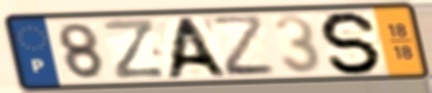3: (273, 11, 322, 78)
8: (53, 21, 108, 81)
A: (162, 15, 232, 80)
S: (318, 10, 385, 76)
Z: (207, 13, 280, 79), (100, 17, 168, 82)
